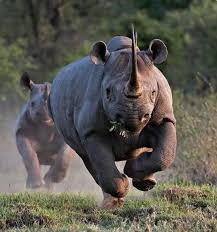Rhinoceros: (48, 22, 193, 207)
